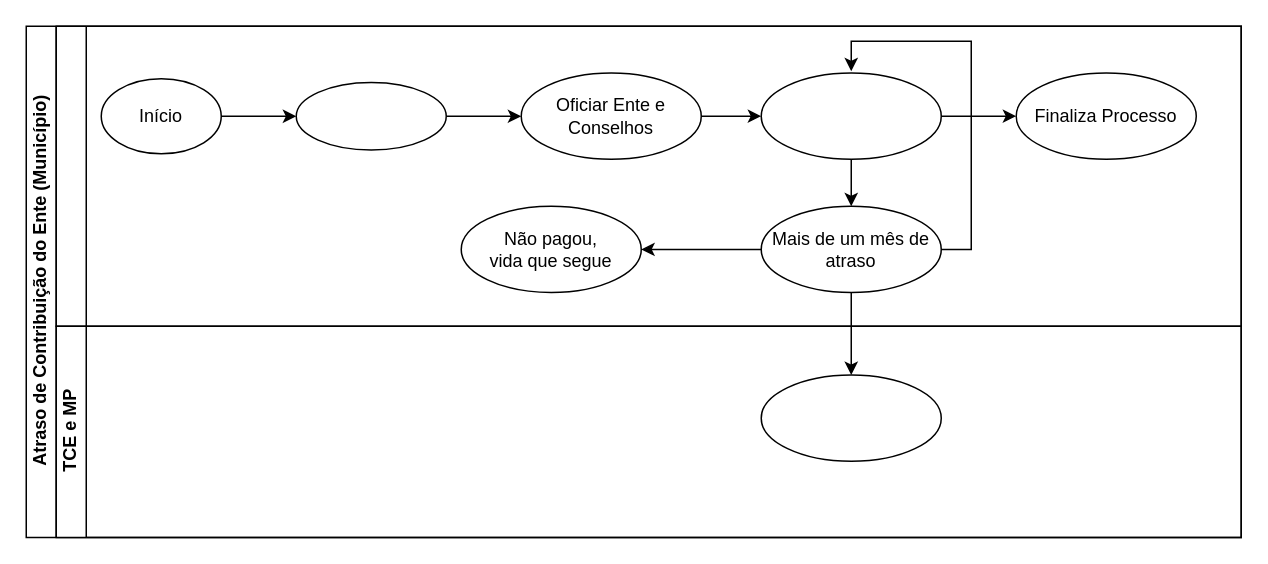
This 1268x564 diagram has some shape labels left out. Each missing label, with the box of its shape:
Fapes: (55, 25, 1241, 326)
Houve atraso?: (295, 81, 446, 150)
Houve Pagamento?: (760, 72, 941, 159)
Notificar TCE e MP: (760, 374, 941, 461)
